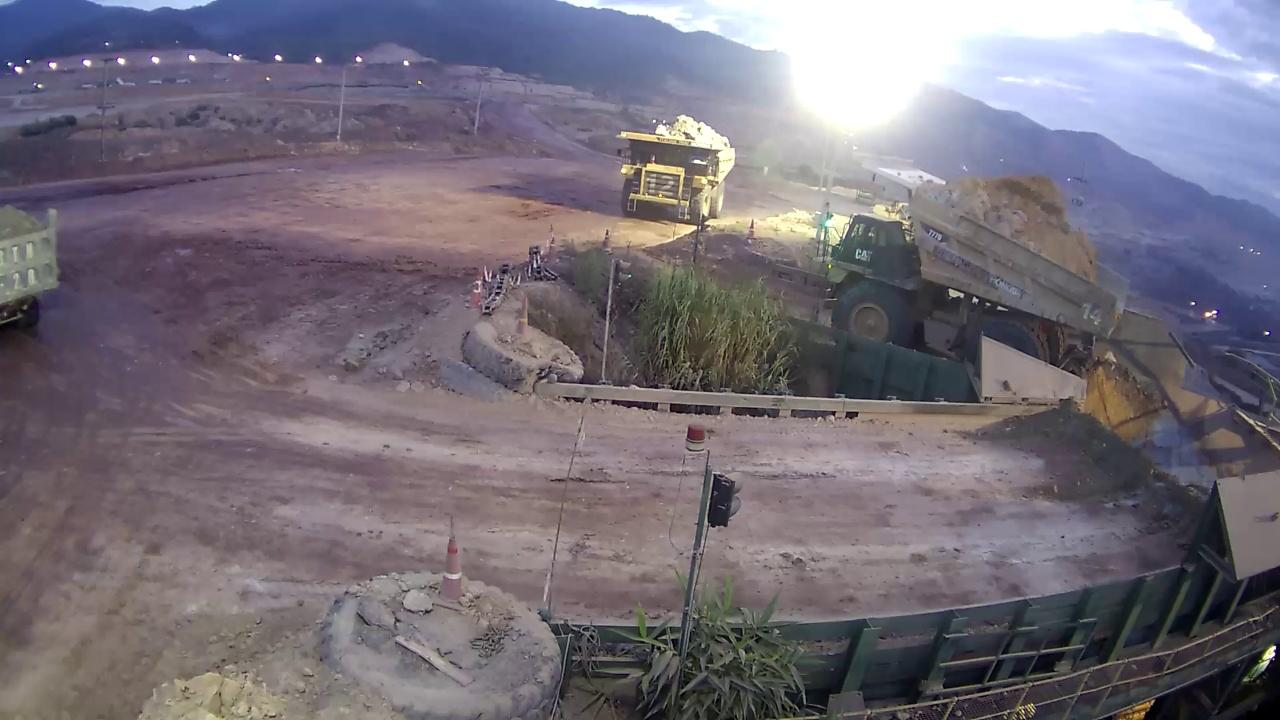dumping_soil: (813, 148, 1138, 387)
front_number: (642, 170, 681, 199)
full_load: (958, 168, 1098, 263), (647, 109, 723, 149)
mining_truck: (613, 105, 736, 231)
tail_number: (1079, 298, 1109, 330)
